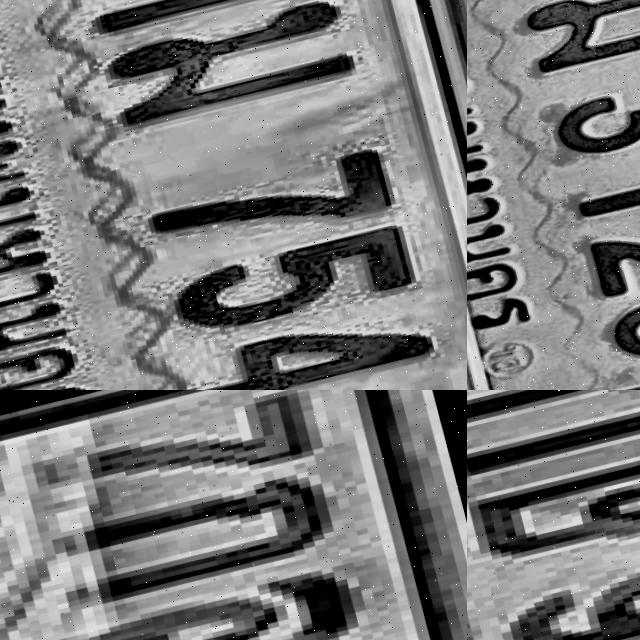license-plate: (0, 0, 467, 390), (0, 390, 467, 640), (467, 0, 640, 390), (467, 390, 640, 640)
